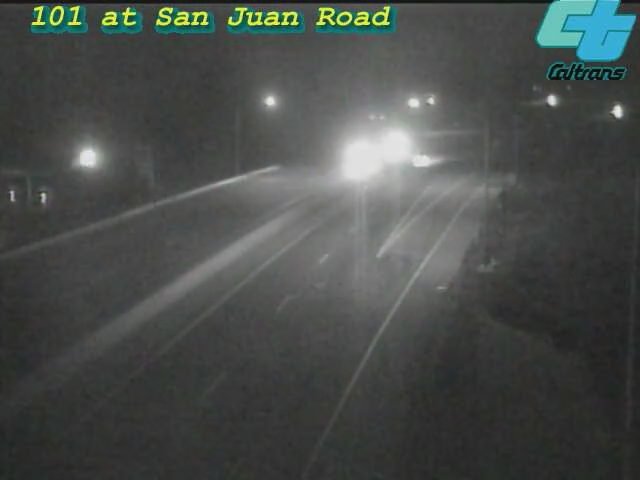vehicle: (335, 133, 385, 183), (369, 122, 419, 172), (398, 135, 448, 185), (590, 86, 640, 136)
